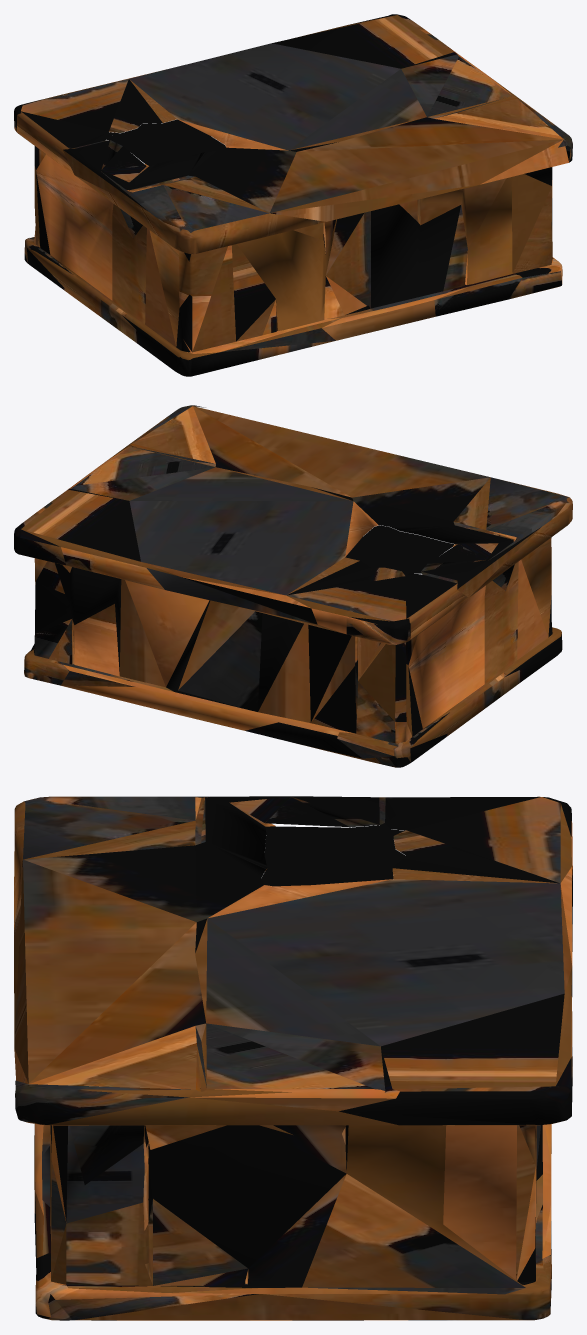
The model's file is counter_plain.gltf.
3 views of the same model, one above another, from view 1: azimuth 30°, elevation 25°; view 2: azimuth 150°, elevation 25°; view 3: azimuth 270°, elevation 25° (orthographic). The views are drawn at different scales.
Parts seen in each view (by area): view 1: counter_plain; view 2: counter_plain; view 3: counter_plain.
Part boxes in pixels (box(x1,y1,x2,y2)): counter_plain: box(14, 14, 572, 376); counter_plain: box(14, 405, 572, 767); counter_plain: box(14, 796, 572, 1320).
Size of the model in its own units: 1.95 by 0.717 by 1.54.
1 material, 1 textured.
